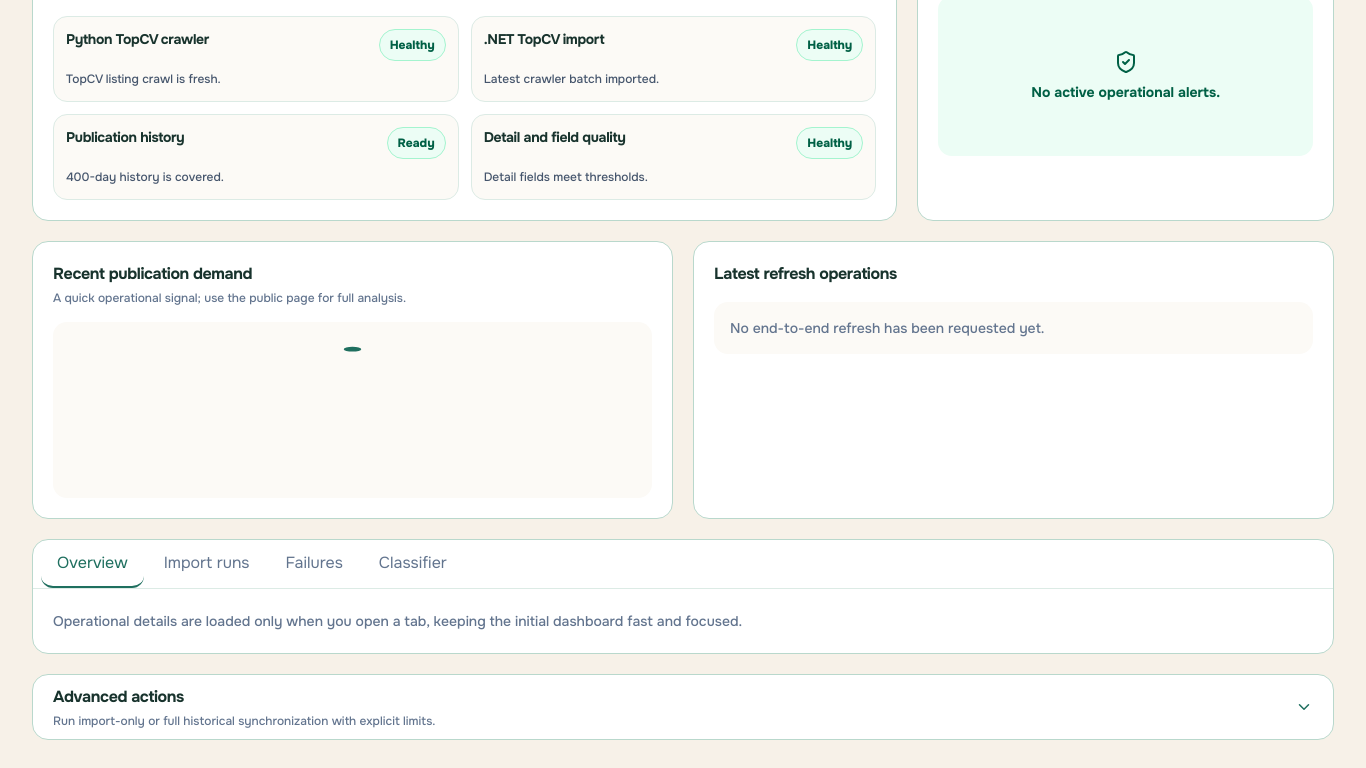
Test: AdminMarketPulsePage › loads only the dashboard on first paint and lazy-loads detail tabs
(page scrolled)
Check: the text "TopCV listing crawl is fresh." is shown, box [66, 71, 221, 87]
Click the tab "Import runs".
click(207, 564)  # box [148, 540, 266, 588]
(page scrolled)
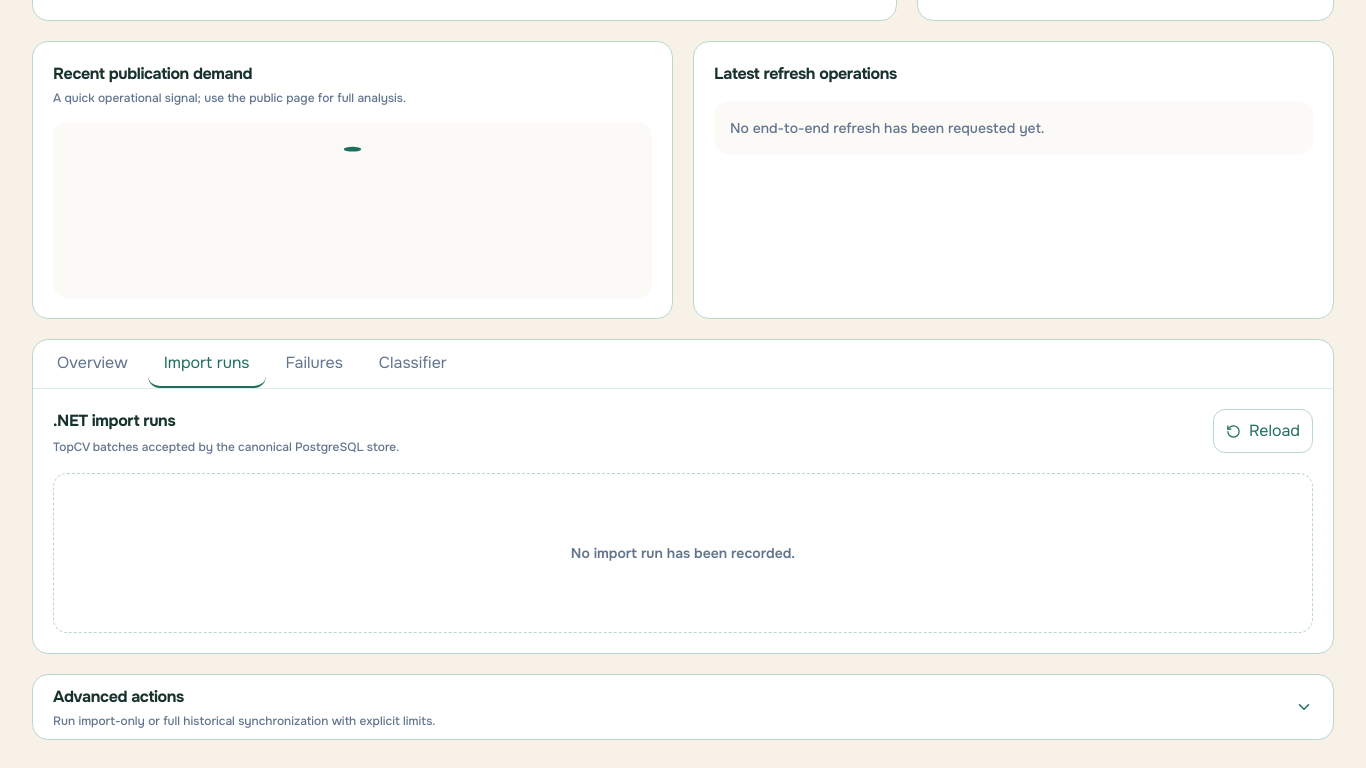
Check: the text "No import run has been recorded." is shown, box [53, 473, 1313, 633]
